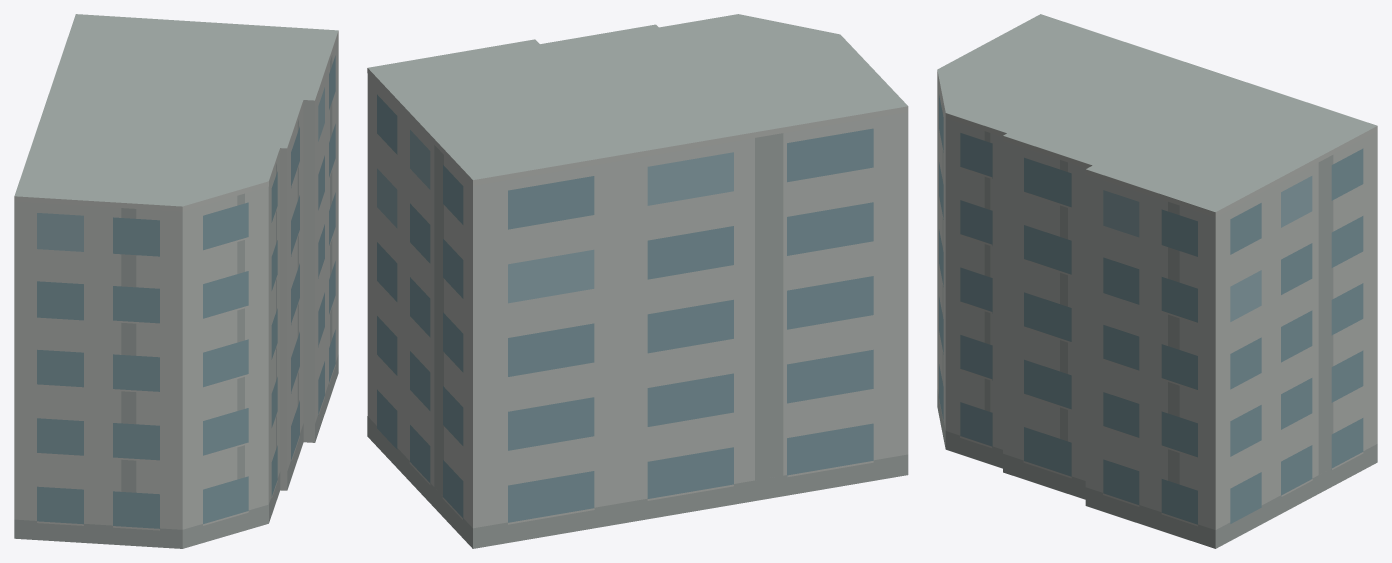
Rendered from survey-upis-32951736.glb.
The picture shows the model from 3 angles, left to right: view 1: azimuth 30°, elevation 25°; view 2: azimuth 150°, elevation 25°; view 3: azimuth 270°, elevation 25°; orthographic projection. The views are drawn at different scales.
Parts seen in each view (by area): view 1: survey-upis-32951736.tmp; view 2: survey-upis-32951736.tmp; view 3: survey-upis-32951736.tmp.
Boxes of the visible parts, x1,y1,x2,y2 form: survey-upis-32951736.tmp: (14,14,338,548); survey-upis-32951736.tmp: (367,14,908,548); survey-upis-32951736.tmp: (937,14,1377,548).
Size of the model in its own units: 20.22 by 16 by 18.98.
